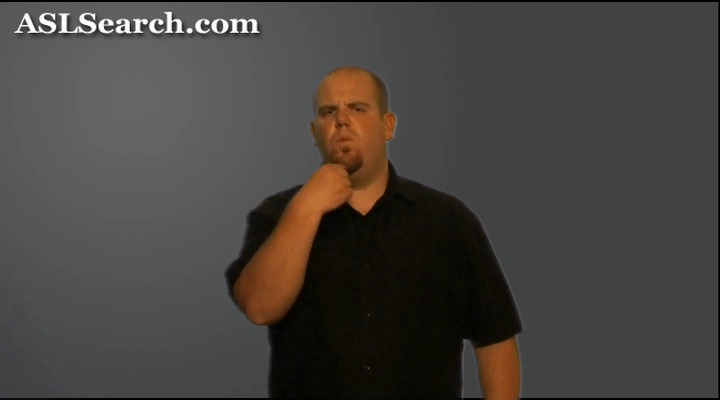who: (279, 130, 389, 237)
